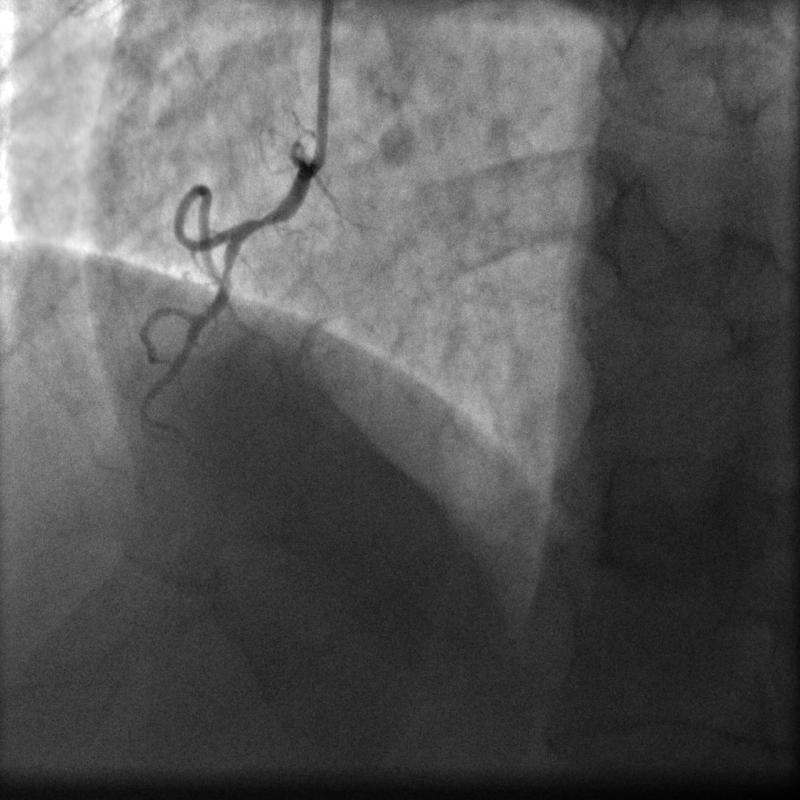Stenosis: (244, 199, 277, 238)
